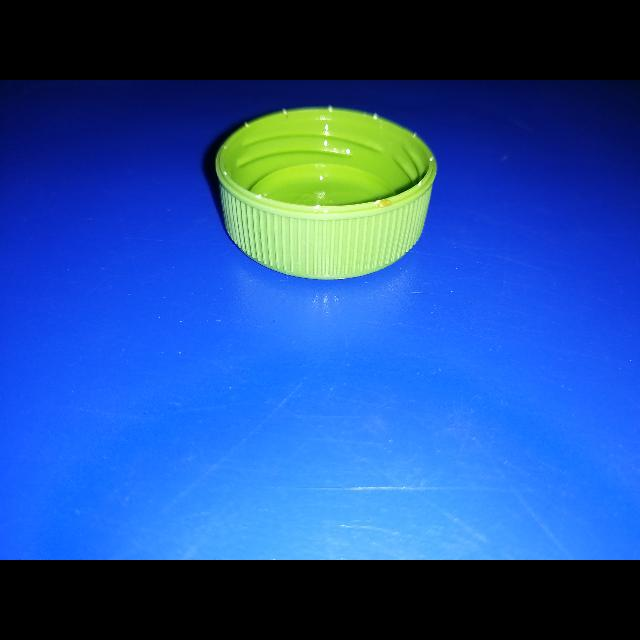plastic_bottle_cap: (214, 105, 438, 279)
